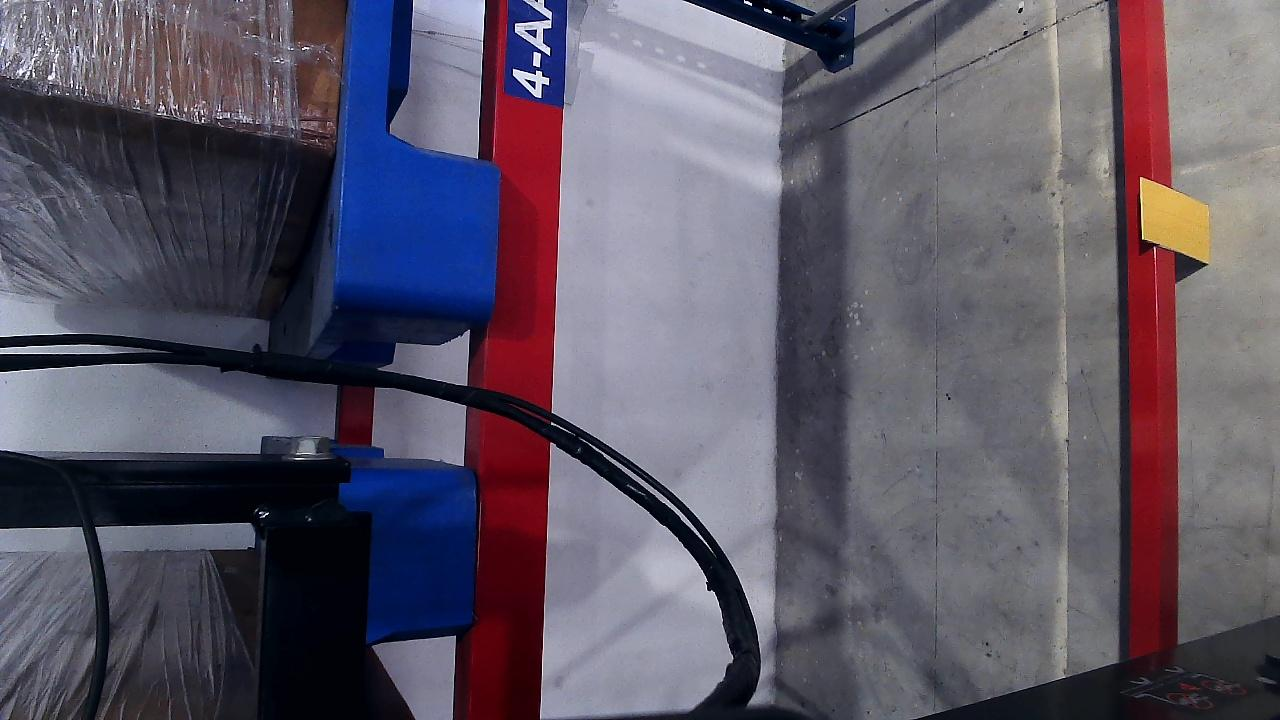h_rack: (496, 0, 540, 720), (1143, 0, 1176, 647)
orange_strip: (1142, 176, 1209, 262)
small_pallet: (337, 0, 497, 311)
